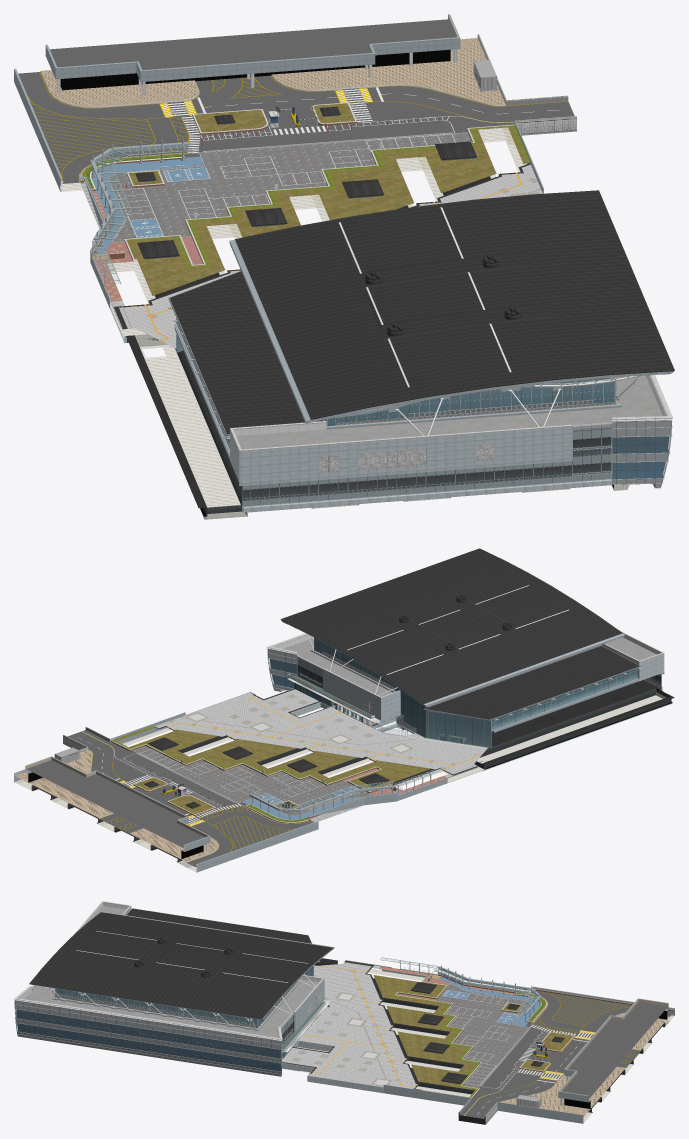
Rendered from OfficialBusanStation_PlatformsParking.fbx.
The picture shows the model from 3 angles, top to bottom: view 1: azimuth 30°, elevation 25°; view 2: azimuth 150°, elevation 25°; view 3: azimuth 270°, elevation 25°; orthographic projection. The views are drawn at different scales.
Parts seen in each view (by area): view 1: OfficialStation_-부산역_선로상층부_0, OfficialStation_-부산역_선로상층부(주차장)_0; view 2: OfficialStation_-부산역_선로상층부_0, OfficialStation_-부산역_선로상층부(주차장)_0; view 3: OfficialStation_-부산역_선로상층부_0, OfficialStation_-부산역_선로상층부(주차장)_0.
Part boxes in pixels (x1,y1,x2,y2): OfficialStation_-부산역_선로상층부_0: (60, 121, 674, 519); OfficialStation_-부산역_선로상층부(주차장)_0: (14, 14, 576, 308); OfficialStation_-부산역_선로상층부_0: (14, 548, 674, 872); OfficialStation_-부산역_선로상층부(주차장)_0: (14, 726, 447, 872); OfficialStation_-부산역_선로상층부_0: (14, 901, 674, 1123); OfficialStation_-부산역_선로상층부(주차장)_0: (373, 957, 674, 1124).
Size of the model in its own units: 14609 by 2315 by 21122.
102 materials, 70 textured.
